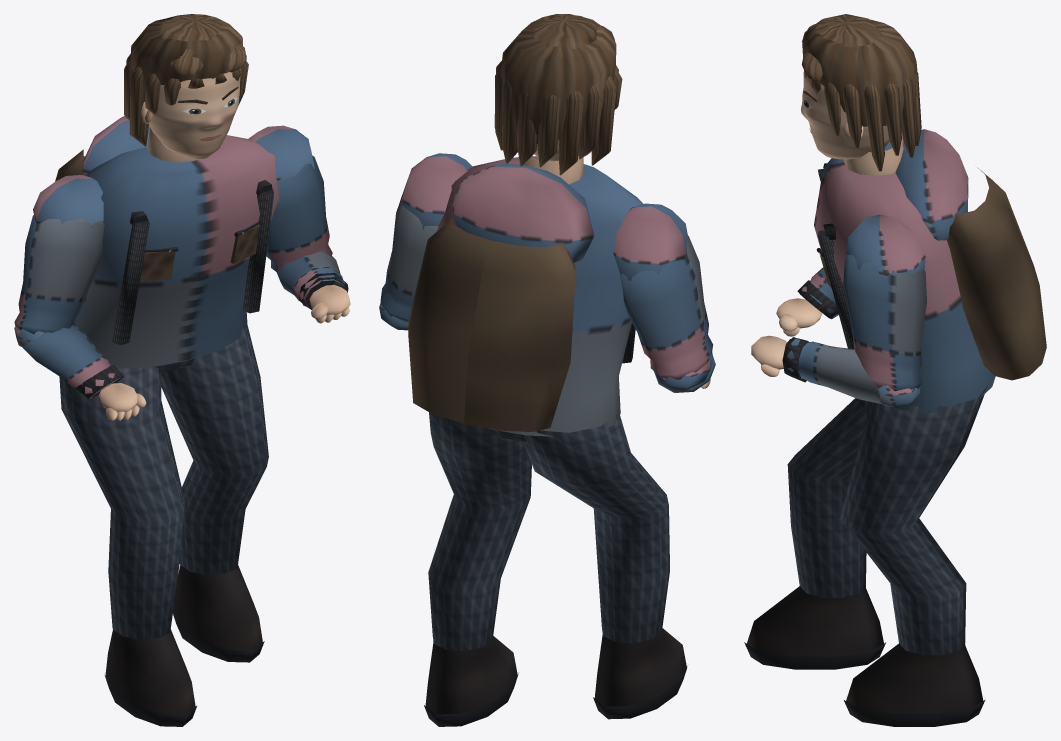
File: HERO-02_fedor-crouched.glb
3 renders of one model, left to right at view 1: azimuth 30°, elevation 25°; view 2: azimuth 150°, elevation 25°; view 3: azimuth 270°, elevation 25°, orthographic. The views are drawn at different scales.
Visible parts, largest first — view 1: fedor · soles; view 2: fedor · soles; view 3: fedor · soles.
Boxes of the visible parts, left/top/right/bottom form: fedor · soles: left=14, top=14, right=350, bottom=726; fedor · soles: left=379, top=14, right=715, bottom=726; fedor · soles: left=744, top=14, right=1046, bottom=726.
Size of the model in its own units: 0.8013 by 1.59 by 0.6575.
Materials: 3 (2 with a texture image).
